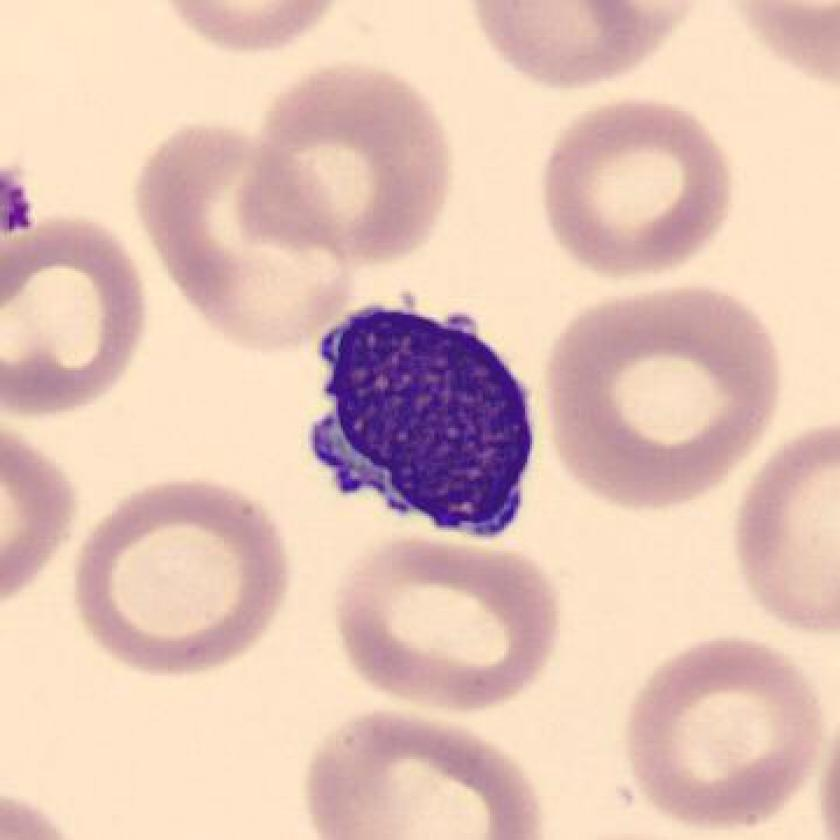lymphocyte: (288, 288, 559, 552)
platelets: (1, 169, 44, 245)
